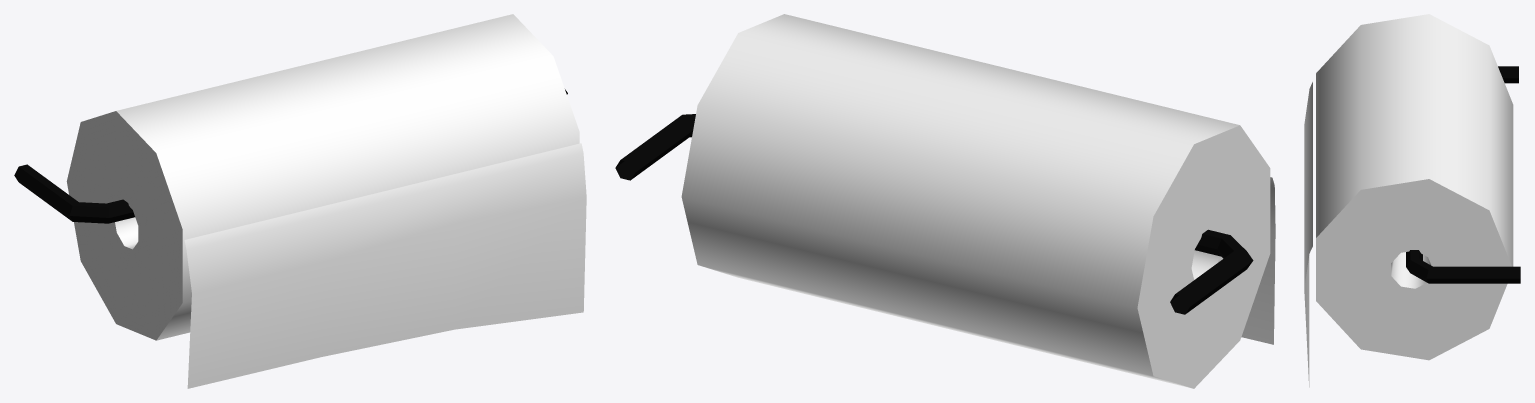
Rendered from Kitchen_TissueRoll.FBX.
3 views of the same model, side by side, from view 1: azimuth 30°, elevation 25°; view 2: azimuth 150°, elevation 25°; view 3: azimuth 270°, elevation 25° (orthographic). The views are drawn at different scales.
Parts seen in each view (by area): view 1: Kitchen_Tissue; view 2: Kitchen_Tissue; view 3: Kitchen_Tissue.
Boxes of the visible parts, x1=… form: Kitchen_Tissue: x1=14, y1=14, x2=586, y2=388; Kitchen_Tissue: x1=615, y1=14, x2=1275, y2=388; Kitchen_Tissue: x1=1304, y1=14, x2=1520, y2=387.
Bounding box in the file's own units: 0.4306 × 0.2033 × 0.1898.
